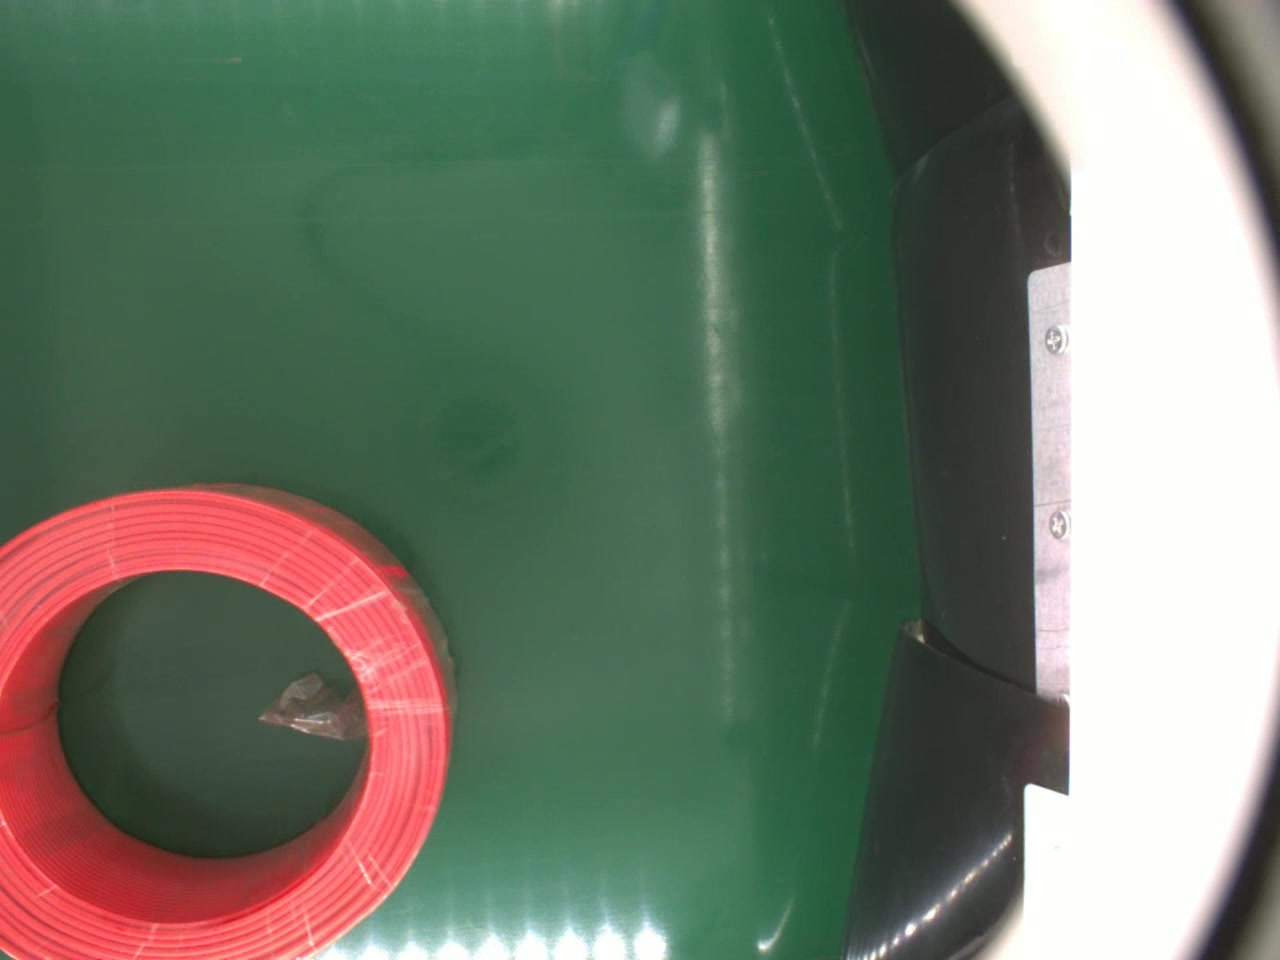red: (0, 478, 458, 960)
